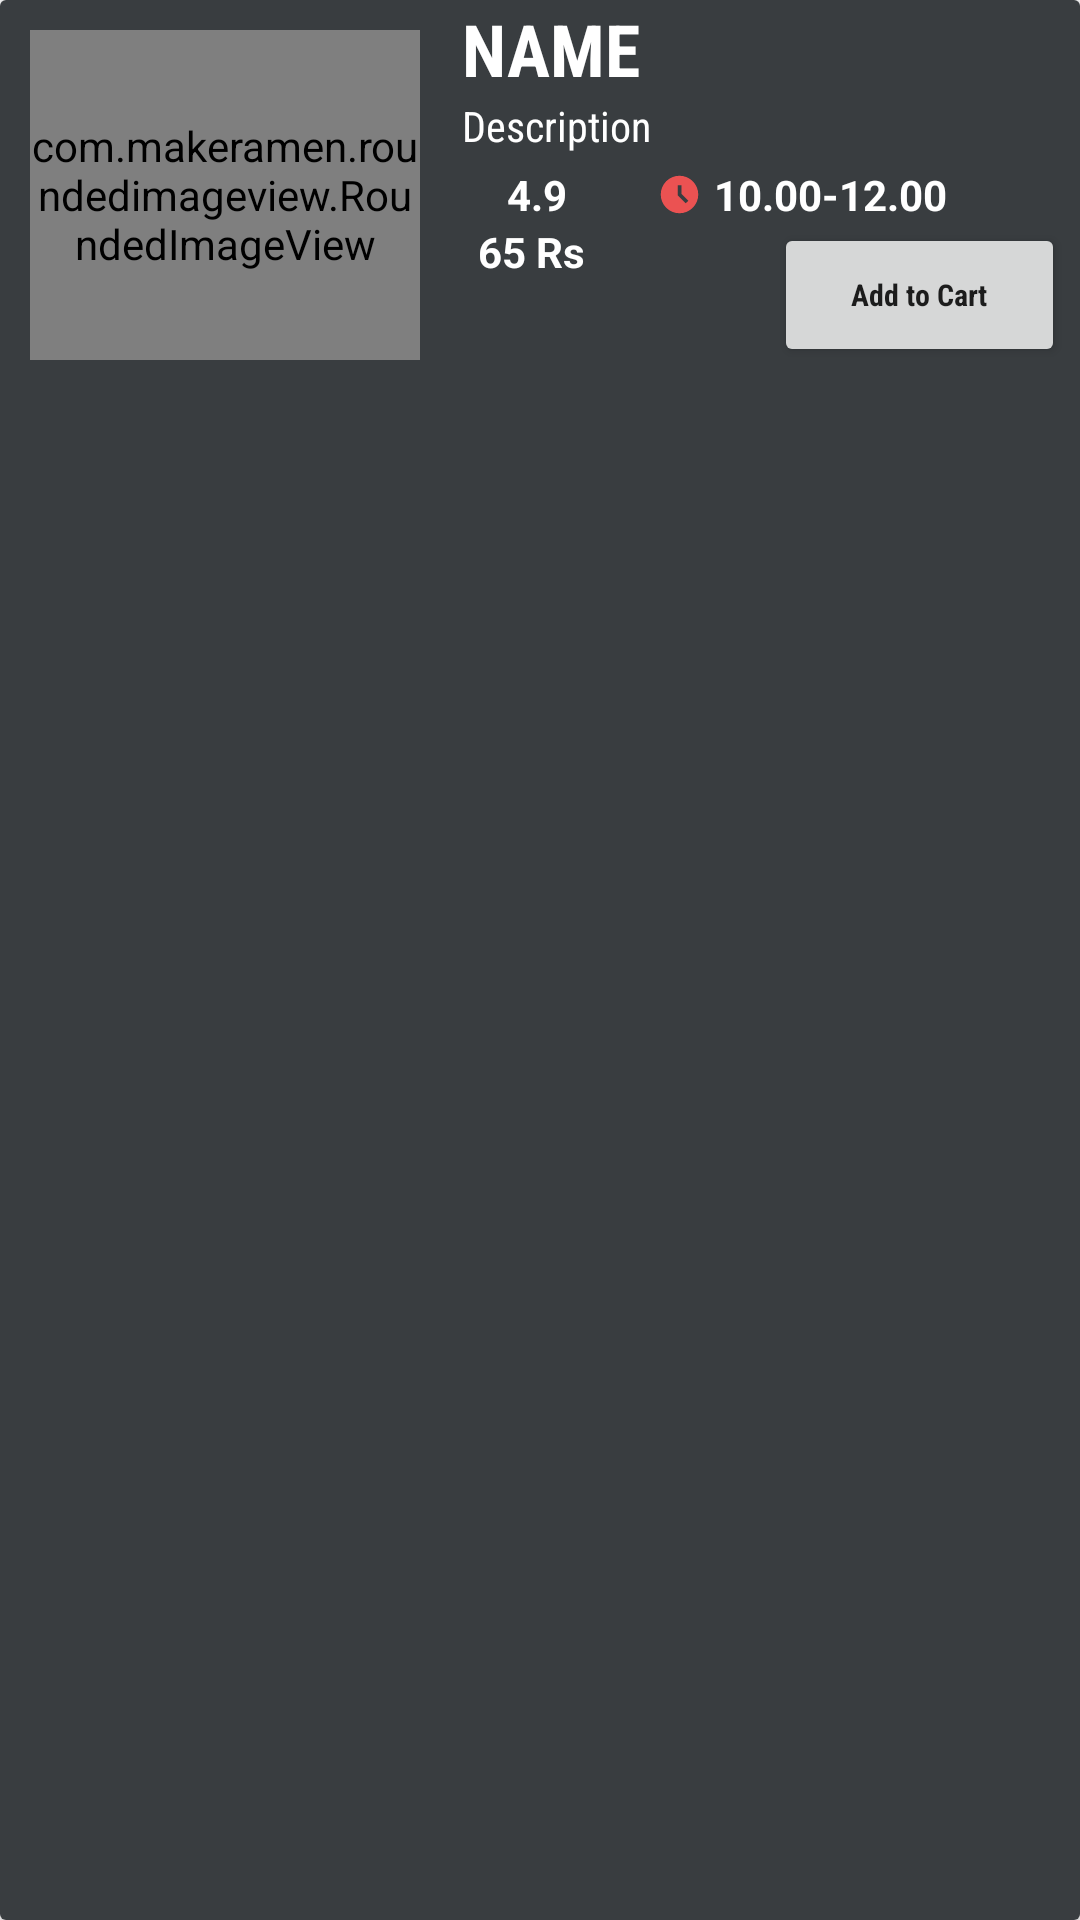

Named icons in this screenshot (1080 x 1920) and their centers, [x,y]:
access time: [679,194]
